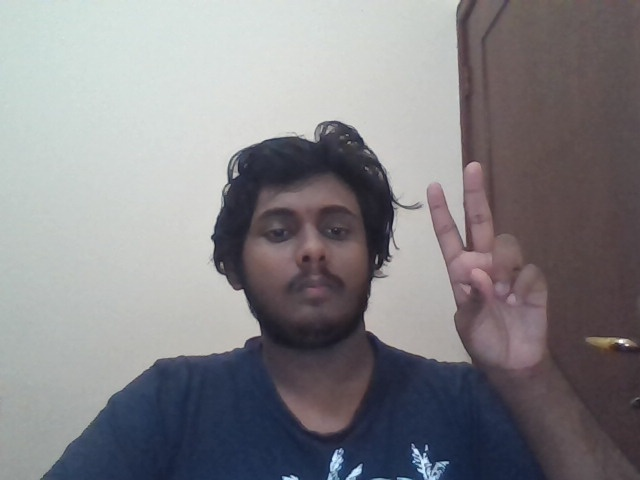peace: (426, 160, 549, 369)
